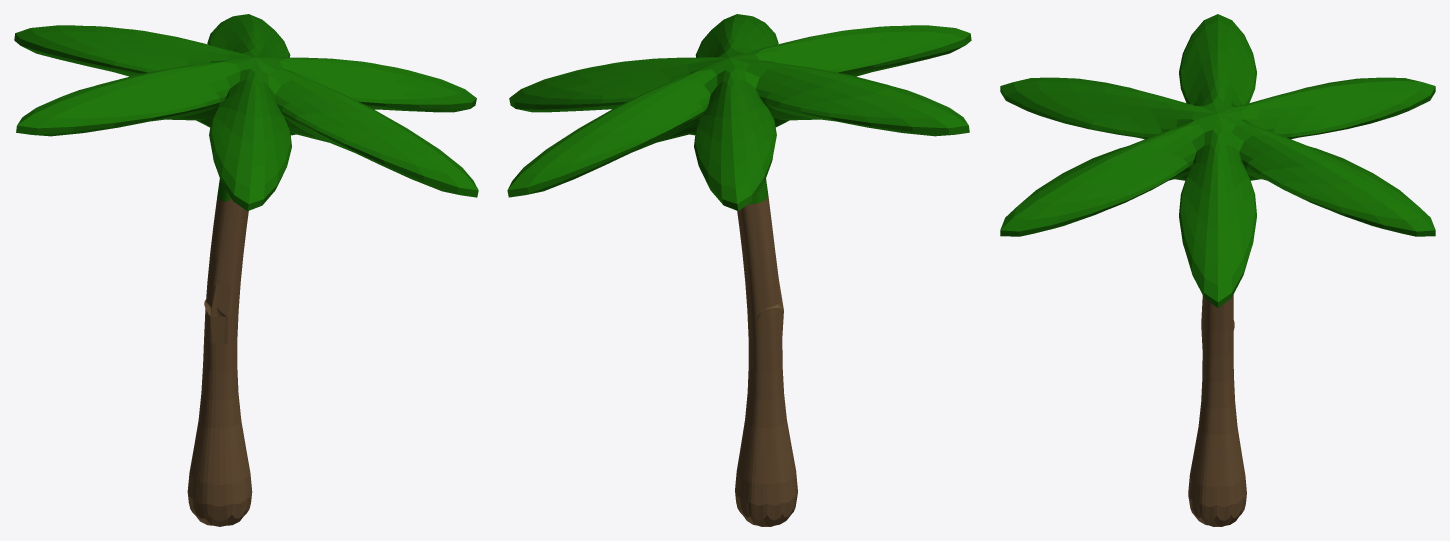
The model's file is tree.fbx.
3 views of the same model, side by side, from view 1: azimuth 30°, elevation 25°; view 2: azimuth 150°, elevation 25°; view 3: azimuth 270°, elevation 25° (orthographic). The views are drawn at different scales.
Visible parts, largest first — view 1: Cylinder; view 2: Cylinder; view 3: Cylinder.
Part boxes in pixels (bbox=[...]): Cylinder: bbox=[14, 14, 478, 526]; Cylinder: bbox=[507, 14, 971, 526]; Cylinder: bbox=[1000, 14, 1435, 526].
Size of the model in its own units: 883 by 861 by 775.
